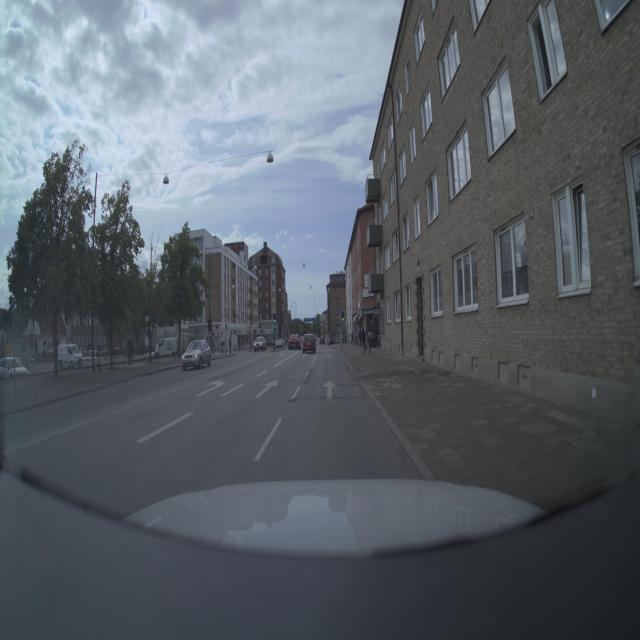green_light: (336, 306, 356, 336), (266, 306, 283, 336)
